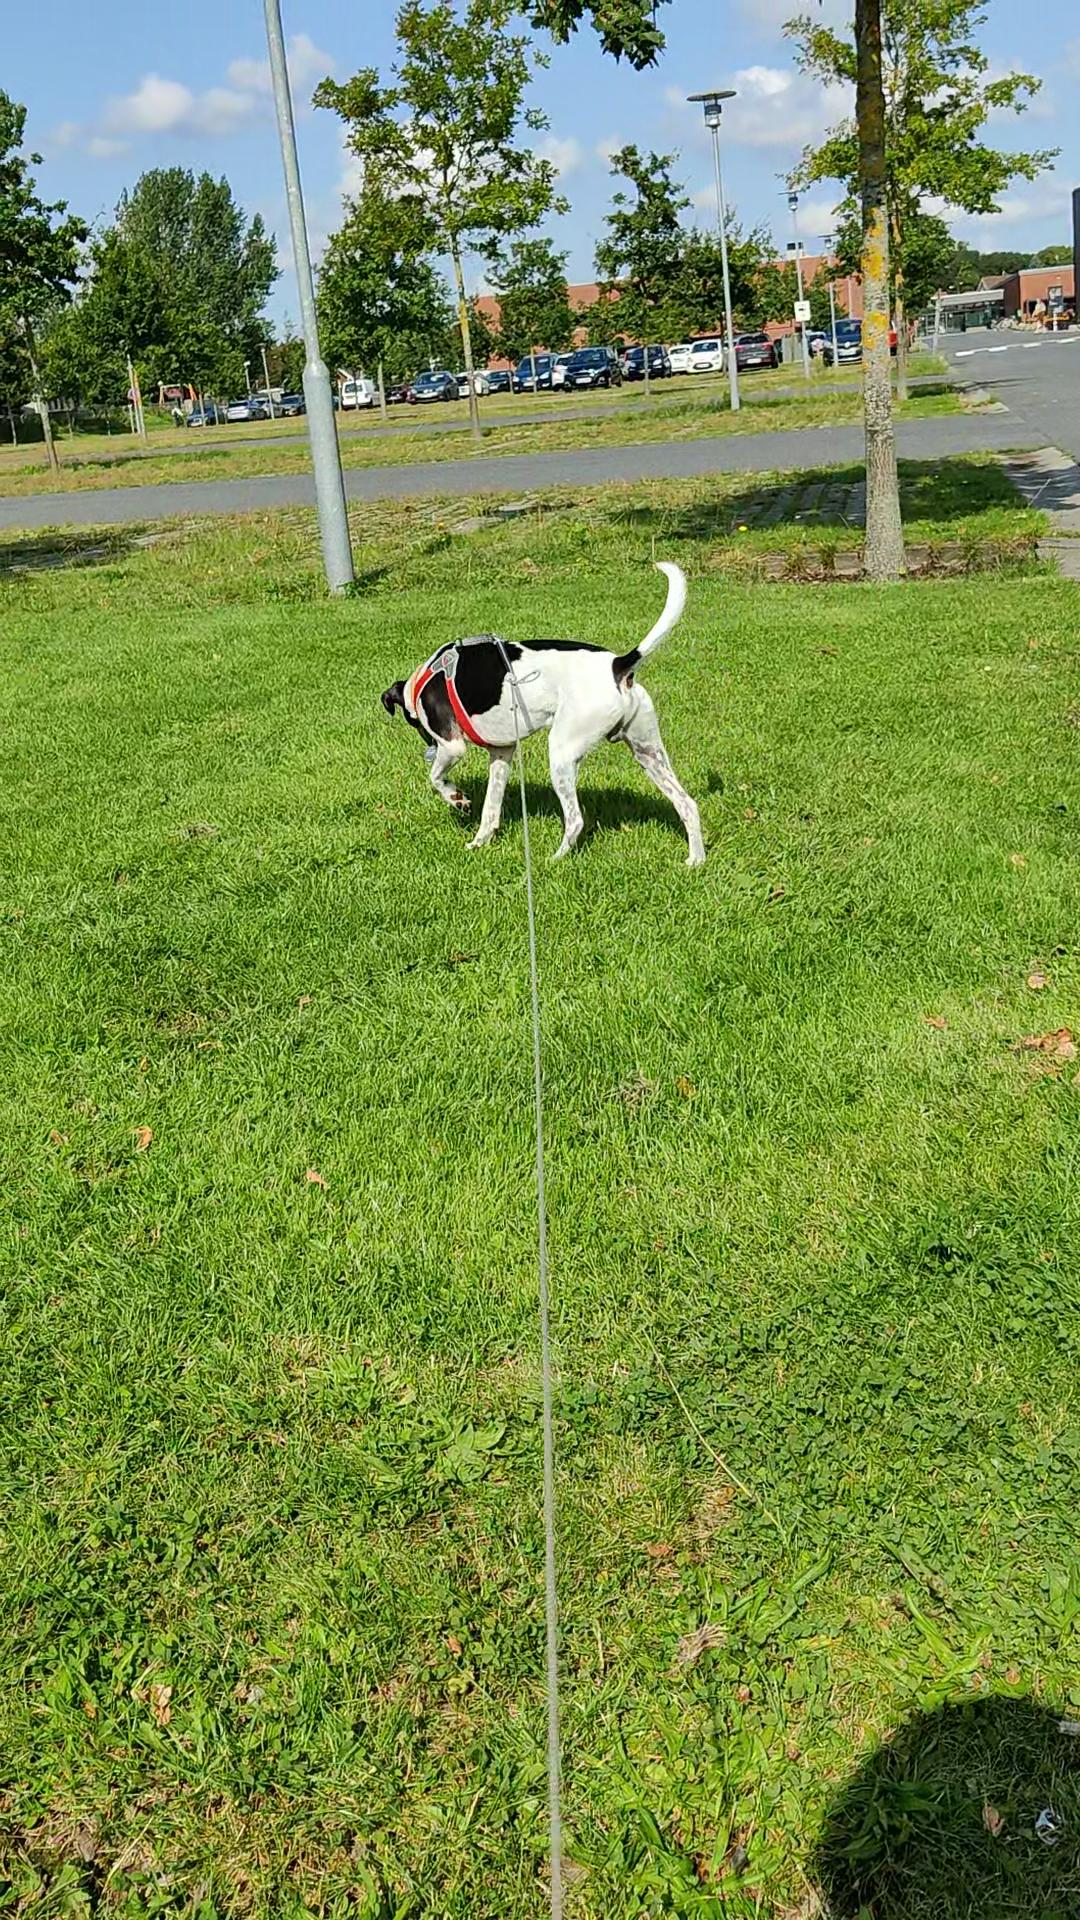Dog: (376, 553, 713, 872)
